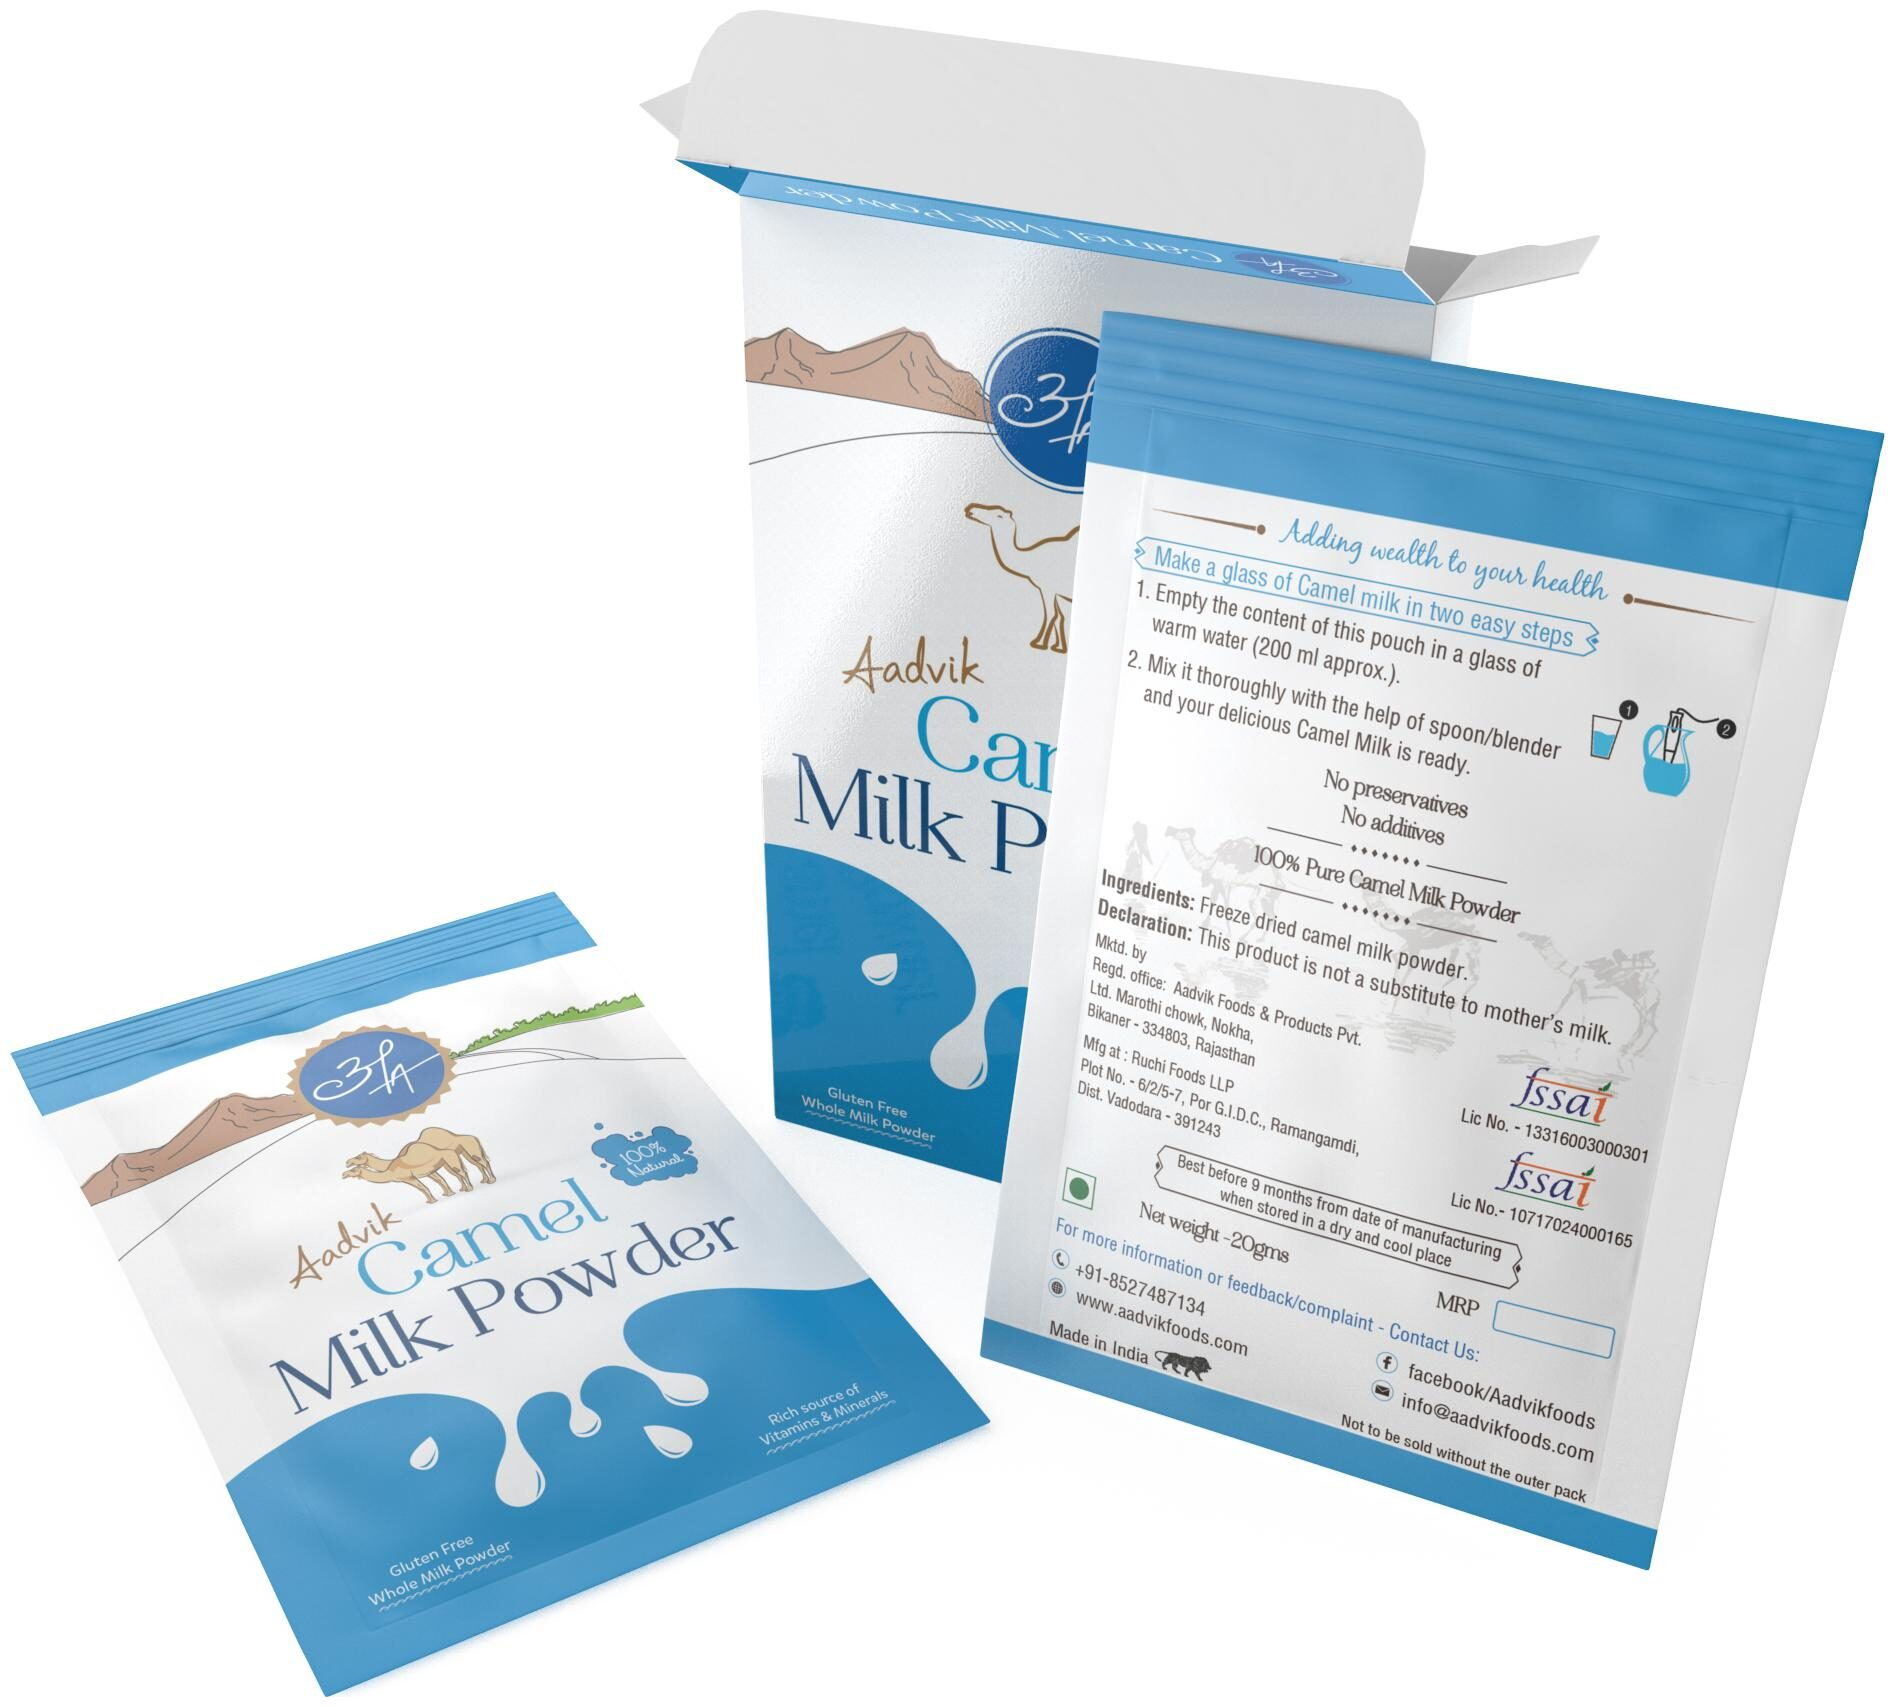fssai: (1491, 1147, 1608, 1208), (1509, 1064, 1621, 1125)
